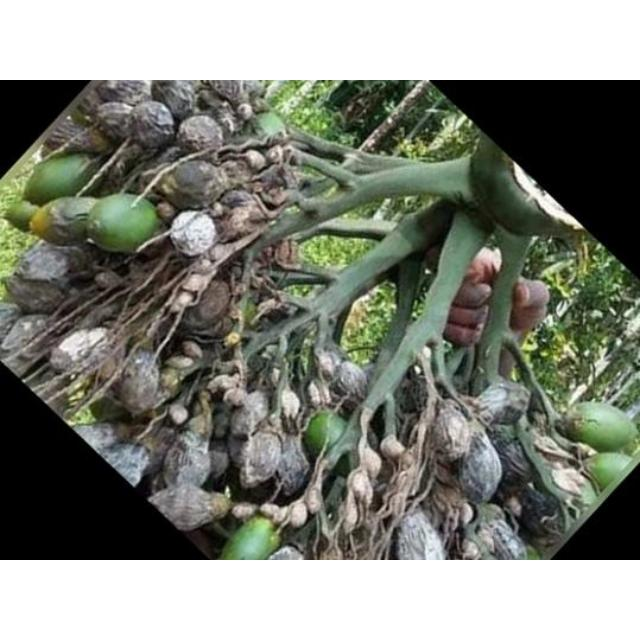damaged: (468, 142, 548, 230), (88, 192, 158, 252), (146, 483, 230, 531), (90, 136, 158, 192), (26, 154, 98, 204), (566, 402, 638, 452), (114, 349, 164, 417), (456, 433, 502, 503), (423, 408, 479, 464), (32, 197, 96, 246), (15, 241, 83, 287), (236, 429, 288, 488), (167, 159, 226, 209), (306, 411, 352, 474), (217, 190, 270, 242), (219, 518, 281, 560), (2, 314, 52, 366), (392, 509, 444, 559), (5, 274, 69, 314), (474, 382, 528, 428), (126, 100, 176, 148), (516, 486, 562, 536), (228, 392, 272, 444), (492, 434, 534, 488), (70, 296, 121, 336), (188, 280, 232, 326), (177, 114, 226, 154), (93, 101, 137, 145), (398, 368, 436, 418), (588, 452, 632, 492), (328, 361, 368, 405), (412, 202, 452, 246), (338, 520, 380, 560), (93, 80, 147, 110), (154, 81, 196, 119), (72, 423, 118, 457), (140, 439, 173, 486), (138, 145, 185, 177), (464, 246, 502, 284), (254, 162, 294, 198), (256, 300, 302, 330), (124, 316, 158, 352), (202, 106, 238, 140), (227, 426, 253, 472), (209, 80, 251, 108), (452, 280, 494, 308), (515, 280, 549, 314), (2, 200, 38, 232), (87, 396, 127, 424), (560, 226, 592, 260), (156, 170, 184, 208), (442, 346, 470, 384), (83, 124, 117, 154), (444, 322, 486, 346), (556, 411, 586, 444), (0, 303, 22, 347), (268, 238, 298, 270), (368, 400, 392, 440), (184, 528, 218, 556), (296, 162, 332, 188), (447, 305, 489, 327), (206, 446, 230, 484), (44, 391, 76, 419), (422, 498, 448, 532), (358, 270, 386, 300), (210, 403, 232, 441), (571, 480, 597, 512), (316, 348, 340, 382), (280, 387, 302, 423), (220, 188, 256, 210), (297, 177, 333, 199), (64, 382, 90, 412), (253, 113, 285, 137), (67, 101, 96, 127), (350, 468, 372, 502), (94, 354, 118, 384), (360, 446, 382, 476), (41, 132, 68, 156), (194, 392, 212, 428), (239, 298, 259, 330), (304, 482, 324, 514), (197, 88, 225, 110), (498, 348, 516, 382), (185, 414, 208, 440), (380, 437, 404, 461), (208, 375, 236, 395), (423, 244, 442, 272), (168, 403, 190, 427), (224, 387, 248, 409), (242, 149, 266, 171), (182, 272, 206, 294), (208, 242, 232, 264), (288, 502, 308, 528), (202, 468, 222, 494), (94, 271, 120, 289), (308, 380, 324, 408), (342, 504, 358, 532), (181, 340, 203, 360), (260, 344, 280, 366), (264, 145, 284, 165), (175, 290, 195, 310), (460, 540, 480, 560), (259, 503, 281, 521), (373, 478, 391, 500), (166, 356, 194, 370), (251, 96, 271, 114), (272, 506, 290, 526), (222, 482, 238, 503), (460, 503, 474, 527), (235, 103, 253, 121), (525, 544, 543, 560), (558, 354, 576, 370), (2, 290, 18, 306), (270, 367, 282, 387)
